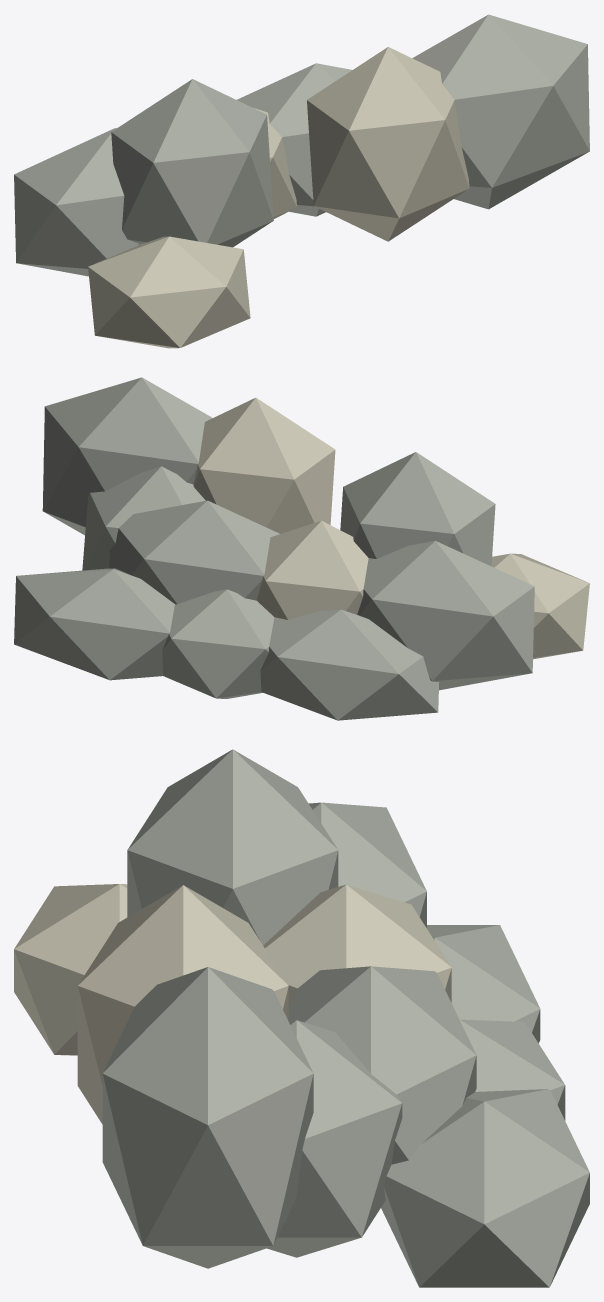
Rendered from SM_Ruin_RubbleCluster_01.fbx.
3 renders of one model, top to bottom at view 1: azimuth 30°, elevation 25°; view 2: azimuth 150°, elevation 25°; view 3: azimuth 270°, elevation 25°, orthographic. The views are drawn at different scales.
Visible parts, largest first — view 1: SM_Ruin_RubbleCluster_01; view 2: SM_Ruin_RubbleCluster_01; view 3: SM_Ruin_RubbleCluster_01.
Boxes of the visible parts, x1,y1,x2,y2 form: SM_Ruin_RubbleCluster_01: [14, 14, 589, 348]; SM_Ruin_RubbleCluster_01: [14, 377, 589, 720]; SM_Ruin_RubbleCluster_01: [14, 749, 589, 1287].
Bounding box in the file's own units: 2.7 × 1.1 × 1.63.
